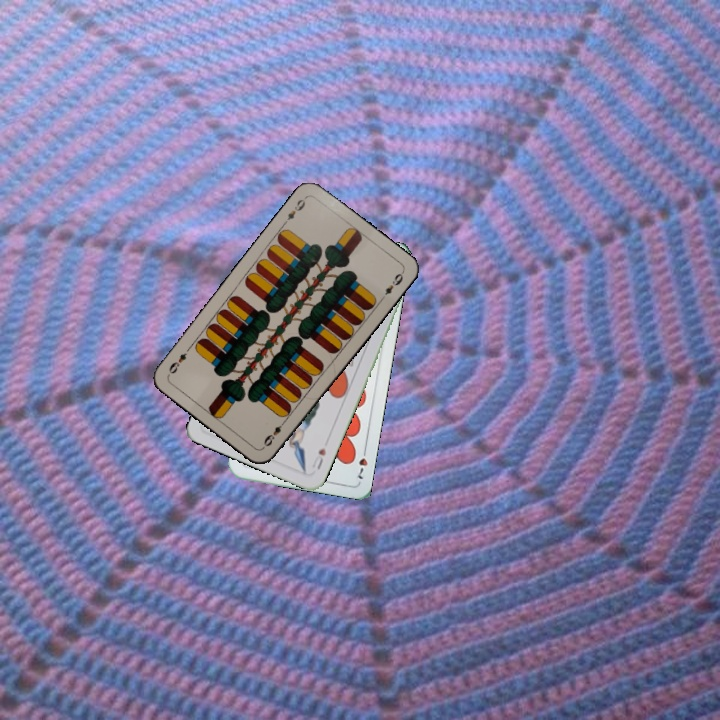E9: (259, 416, 289, 450), (280, 193, 309, 227)
H7: (353, 443, 370, 482)
HU: (308, 443, 329, 472)
